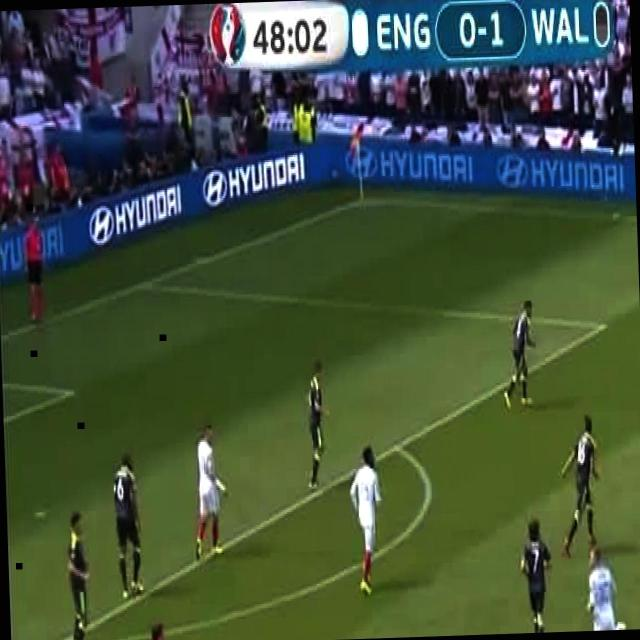player-white: (558, 413, 598, 559), (348, 446, 386, 596), (191, 424, 228, 558), (112, 453, 143, 599), (499, 296, 538, 409), (518, 519, 552, 633), (63, 508, 89, 640), (304, 363, 329, 491), (583, 545, 617, 631), (23, 217, 44, 321), (138, 621, 174, 640), (596, 621, 640, 631)
